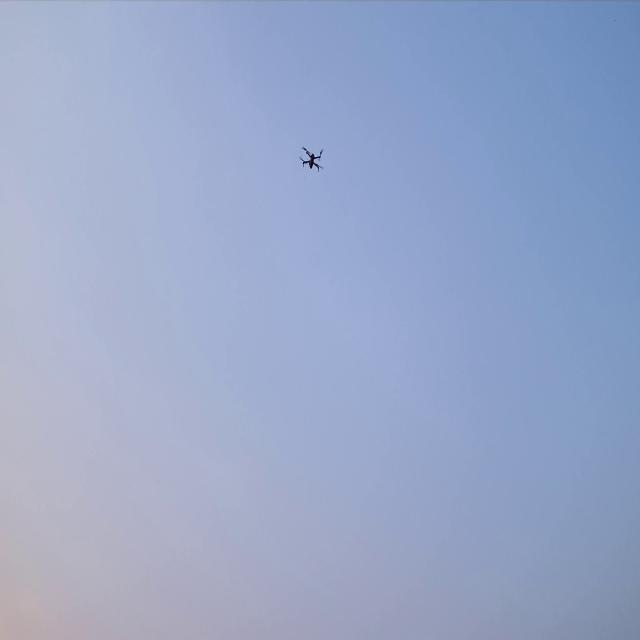UAV: (298, 144, 324, 174)
